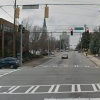crosswalk: (0, 83, 99, 93)
